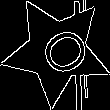O_SW: (24, 20, 89, 82)
